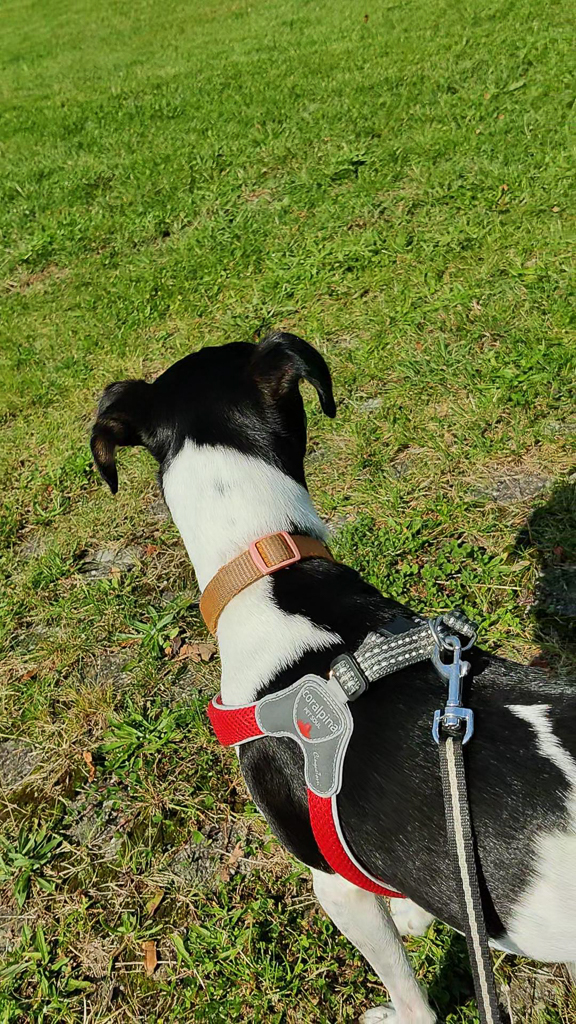Dog: (67, 312, 576, 1024)
